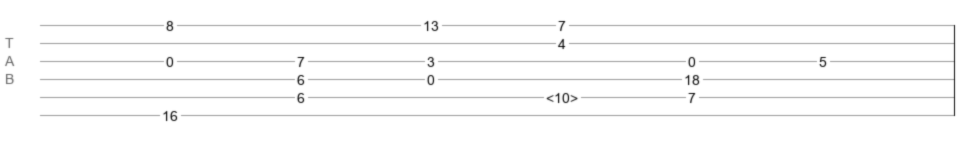0: (166, 54, 174, 64), (427, 72, 435, 82), (688, 54, 696, 64)
13: (423, 18, 439, 28)
16: (162, 108, 178, 118)
18: (684, 72, 700, 82)
3: (427, 54, 435, 64)
4: (558, 36, 566, 46)
5: (819, 54, 827, 64)
6: (297, 90, 305, 100), (297, 72, 305, 82)
7: (297, 54, 305, 64), (558, 18, 566, 28), (688, 90, 696, 100)
8: (166, 18, 174, 28)
harmonic: (546, 90, 578, 100)
